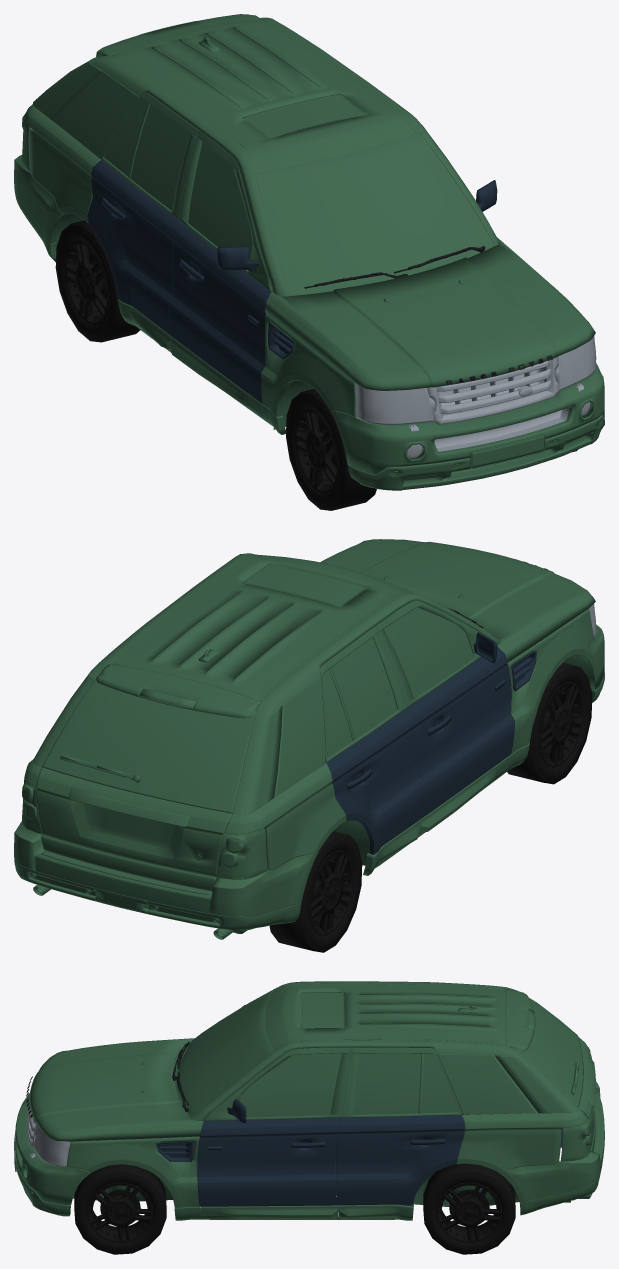
The model's file is SUV.obj.
The picture shows the model from 3 angles, top to bottom: view 1: azimuth 30°, elevation 25°; view 2: azimuth 150°, elevation 25°; view 3: azimuth 270°, elevation 25°; orthographic projection. The views are drawn at different scales.
Visible parts, largest first — view 1: RH_paint__6_RangeRover_PART4, RH_paint__12_RangeRover_PART5, RH_paint__5_RangeRover_PART3, RH_glass__3_RangeRover_PART1, RH_alloy__7_RangeRover_PART6, RH_paint__4_RangeRover_PART2, RH_rubber__10_RangeRover_W_FL02, RH_rubber__9_RangeRover_W_FL01, RH_trim__8_Wiper_ns; view 2: RH_paint__5_RangeRover_PART3, RH_paint__6_RangeRover_PART4, RH_glass__3_RangeRover_PART1, RH_paint__12_RangeRover_PART5, RH_paint__4_RangeRover_PART2, RH_rubber__9_RangeRover_W_FL01, RH_rubber__10_RangeRover_W_FL02; view 3: RH_paint__6_RangeRover_PART4, RH_glass__3_RangeRover_PART1, RH_paint__12_RangeRover_PART5, RH_paint__5_RangeRover_PART3, RH_paint__4_RangeRover_PART2, RH_rubber__1_RangeRover_W_FL, RH_rubber__11_RangeRover_W_FL03, RH_alloy__7_RangeRover_PART6, RH_trim__8_Wiper_ns.
Part boxes in pixels (bbox=[...]): RH_paint__6_RangeRover_PART4: bbox=[53, 17, 498, 434]; RH_paint__12_RangeRover_PART5: bbox=[261, 238, 604, 490]; RH_paint__5_RangeRover_PART3: bbox=[22, 14, 416, 172]; RH_glass__3_RangeRover_PART1: bbox=[87, 160, 500, 403]; RH_alloy__7_RangeRover_PART6: bbox=[355, 336, 596, 458]; RH_paint__4_RangeRover_PART2: bbox=[14, 104, 100, 262]; RH_rubber__10_RangeRover_W_FL02: bbox=[286, 389, 376, 510]; RH_rubber__9_RangeRover_W_FL01: bbox=[55, 220, 140, 342]; RH_trim__8_Wiper_ns: bbox=[304, 246, 552, 385]; RH_paint__5_RangeRover_PART3: bbox=[22, 554, 412, 891]; RH_paint__6_RangeRover_PART4: bbox=[89, 553, 529, 875]; RH_glass__3_RangeRover_PART1: bbox=[327, 632, 536, 854]; RH_paint__12_RangeRover_PART5: bbox=[320, 539, 604, 764]; RH_paint__4_RangeRover_PART2: bbox=[14, 759, 346, 939]; RH_rubber__9_RangeRover_W_FL01: bbox=[269, 831, 362, 952]; RH_rubber__10_RangeRover_W_FL02: bbox=[507, 663, 592, 784]; RH_paint__6_RangeRover_PART4: bbox=[170, 981, 537, 1220]; RH_glass__3_RangeRover_PART1: bbox=[156, 1005, 562, 1206]; RH_paint__12_RangeRover_PART5: bbox=[14, 1038, 203, 1216]; RH_paint__5_RangeRover_PART3: bbox=[265, 984, 595, 1161]; RH_paint__4_RangeRover_PART2: bbox=[456, 1082, 604, 1215]; RH_rubber__1_RangeRover_W_FL: bbox=[423, 1163, 515, 1254]; RH_rubber__11_RangeRover_W_FL03: bbox=[74, 1164, 166, 1254]; RH_alloy__7_RangeRover_PART6: bbox=[27, 1102, 70, 1166]; RH_trim__8_Wiper_ns: bbox=[26, 1041, 189, 1117].
Size of the model in its own units: 1.55 by 1.44 by 3.78.
